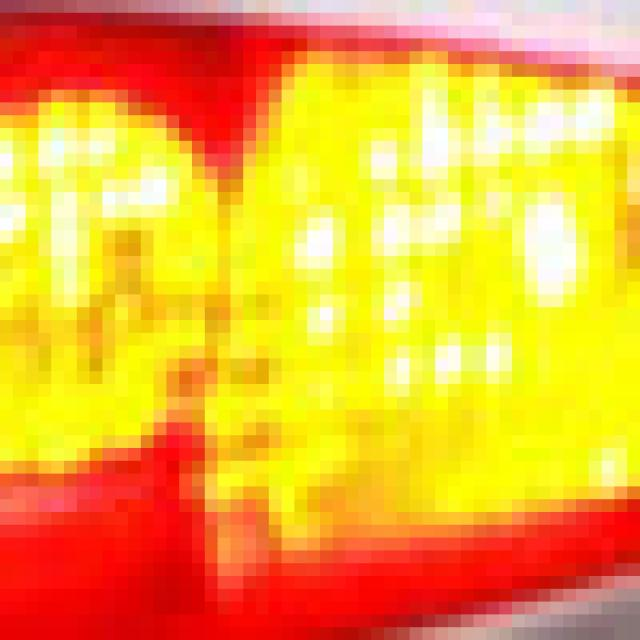no_fire: (11, 80, 640, 602)
